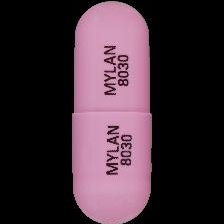51079-121: (0, 0, 224, 224)
